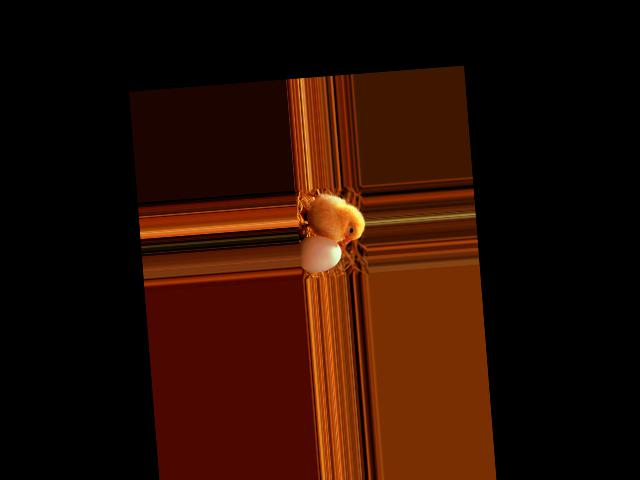egg: (298, 233, 342, 273)
